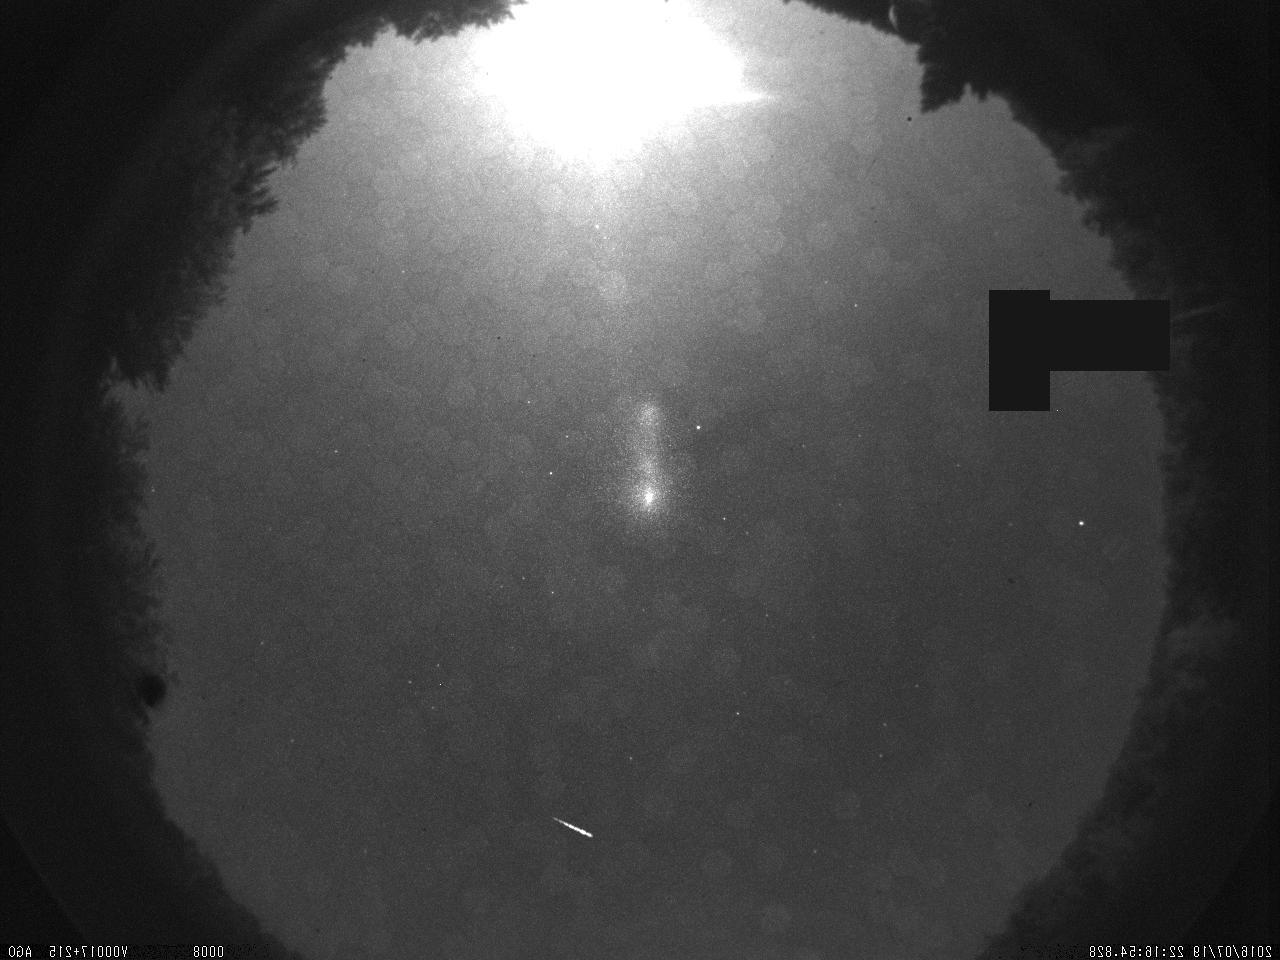meteor: (548, 809, 601, 843)
